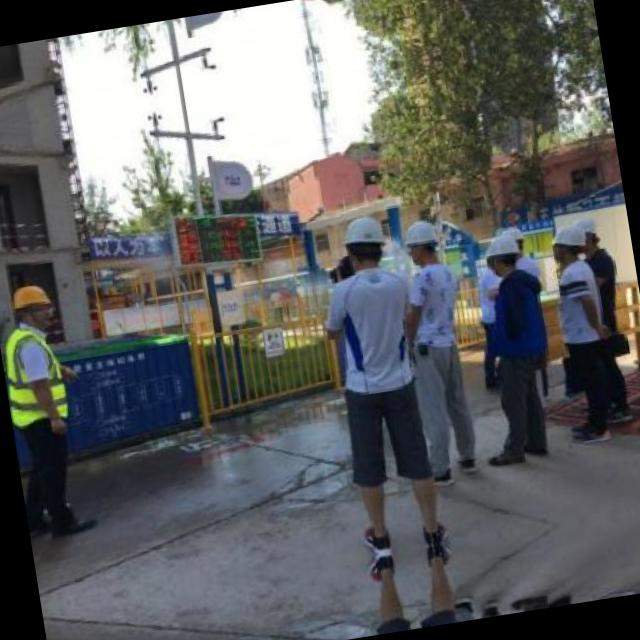helmet: (340, 210, 388, 272), (8, 276, 57, 334), (398, 214, 444, 268), (479, 230, 523, 280), (543, 220, 590, 266), (572, 214, 606, 254)
